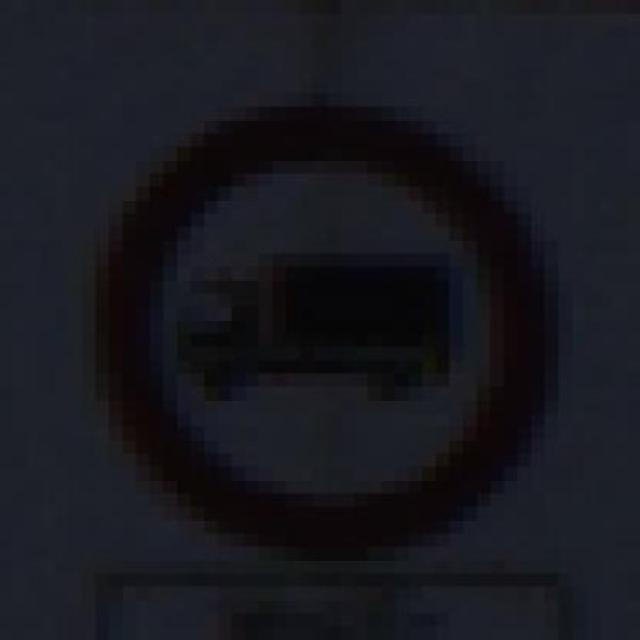Truck traffic is prohibited: (41, 80, 585, 560)
